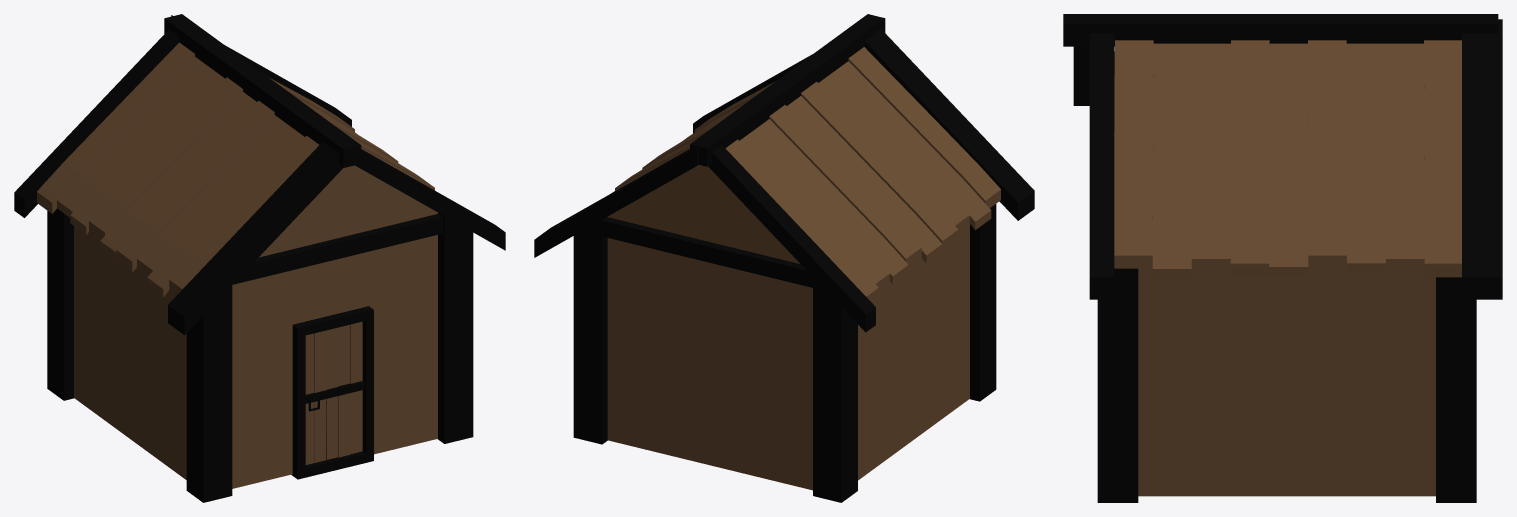
The model's file is 01_res_small_var3.fbx.
3 views of the same model, side by side, from view 1: azimuth 30°, elevation 25°; view 2: azimuth 150°, elevation 25°; view 3: azimuth 270°, elevation 25° (orthographic). The views are drawn at different scales.
Visible parts, largest first — view 1: Cube.011; view 2: Cube.011; view 3: Cube.011.
Boxes of the visible parts, <box> form: Cube.011: <box>14,14,505,502</box>; Cube.011: <box>534,14,1034,502</box>; Cube.011: <box>1063,14,1502,502</box>.
Bounding box in the file's own units: 48.24 × 47.05 × 46.21.
